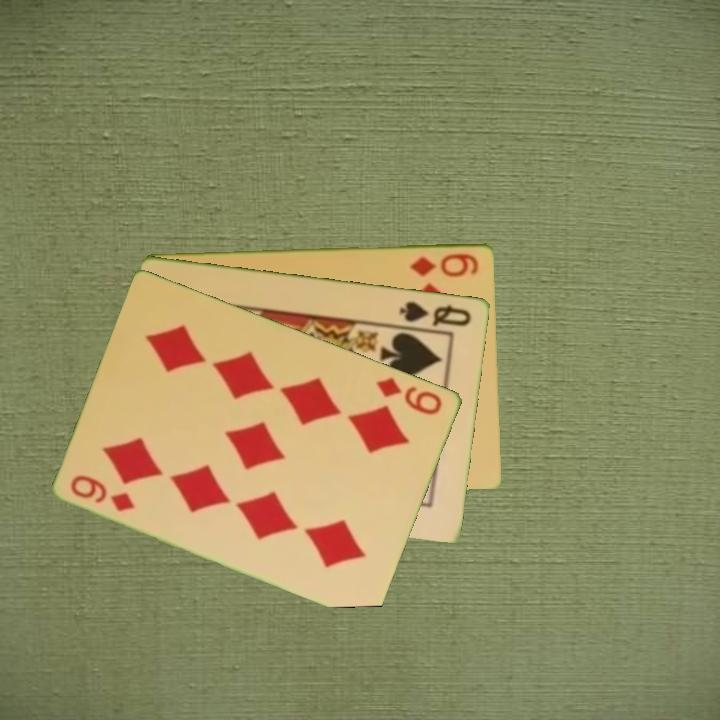6d: (406, 249, 481, 280)
9d: (372, 373, 446, 418), (67, 471, 139, 515)
Qs: (396, 297, 475, 329)
